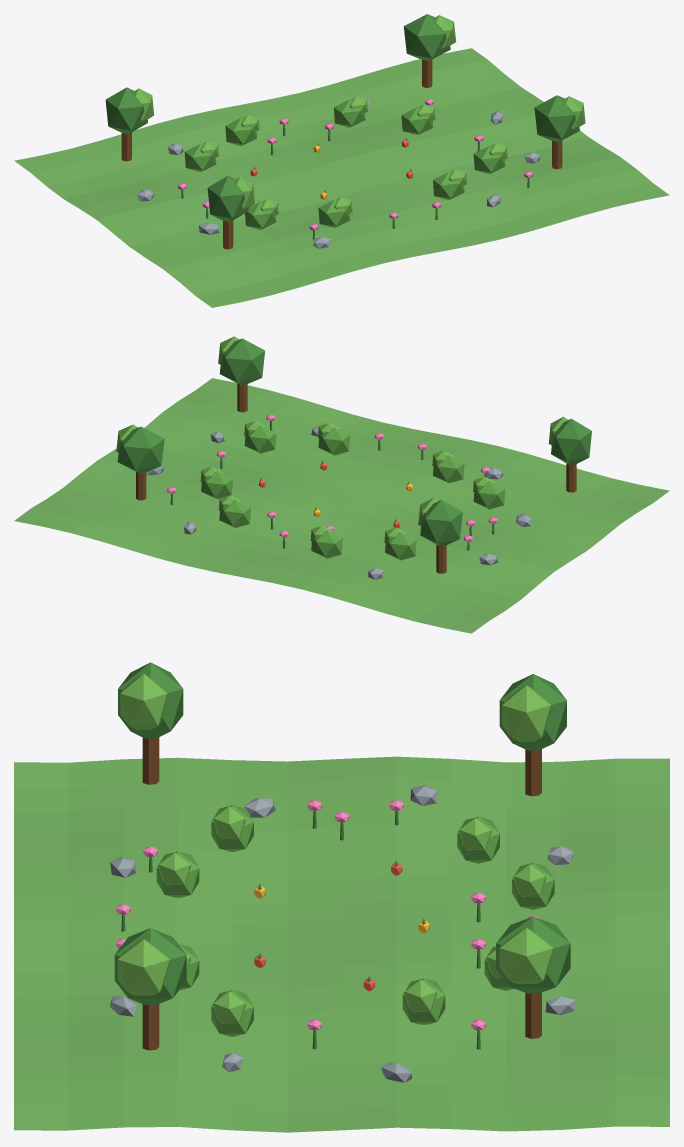
The model's file is BercarioEnvironment.fbx.
3 views of the same model, one above another, from view 1: azimuth 30°, elevation 25°; view 2: azimuth 150°, elevation 25°; view 3: azimuth 270°, elevation 25° (orthographic). The views are drawn at different scales.
Parts seen in each view (by area): view 1: GEO-ENV-Terrain, GEO-Tree_02_CanopyA, GEO-Tree_04_CanopyA, GEO-Tree_01_CanopyA, GEO-Tree_03_CanopyA, GEO-FruitBush_01_Base, GEO-FruitBush_08_Base, GEO-FruitBush_06_Base, GEO-FruitBush_03_Base, GEO-FruitBush_07_Base, GEO-FruitBush_02_Base, GEO-FruitBush_04_Base (+1 smaller); view 2: GEO-ENV-Terrain, GEO-Tree_02_CanopyA, GEO-Tree_04_CanopyA, GEO-Tree_01_CanopyA, GEO-Tree_03_CanopyA, GEO-FruitBush_07_Base, GEO-FruitBush_08_Base, GEO-FruitBush_03_Base, GEO-FruitBush_05_Base, GEO-FruitBush_02_Base, GEO-FruitBush_01_Base, GEO-FruitBush_04_Base (+1 smaller); view 3: GEO-ENV-Terrain, GEO-Tree_02_CanopyA, GEO-Tree_02_CanopyB, GEO-Tree_04_CanopyA, GEO-Tree_04_CanopyB, GEO-Tree_01_CanopyB, GEO-Tree_01_CanopyA, GEO-Tree_03_CanopyB, GEO-Tree_03_CanopyA, GEO-FruitBush_06_Base, GEO-FruitBush_02_Base, GEO-FruitBush_04_Base (+13 smaller).
Boxes of the visible parts, x1,y1,x2,y2 form: GEO-ENV-Terrain: [14, 48, 669, 307]; GEO-Tree_02_CanopyA: [403, 14, 450, 60]; GEO-Tree_04_CanopyA: [534, 95, 579, 141]; GEO-Tree_01_CanopyA: [105, 87, 147, 133]; GEO-Tree_03_CanopyA: [207, 175, 248, 221]; GEO-FruitBush_01_Base: [184, 144, 216, 171]; GEO-FruitBush_08_Base: [473, 146, 505, 174]; GEO-FruitBush_06_Base: [318, 200, 349, 227]; GEO-FruitBush_03_Base: [333, 99, 365, 127]; GEO-FruitBush_07_Base: [433, 172, 464, 200]; GEO-FruitBush_02_Base: [225, 118, 256, 145]; GEO-FruitBush_04_Base: [401, 107, 433, 134]; GEO-ENV-Terrain: [14, 378, 669, 633]; GEO-Tree_02_CanopyA: [117, 426, 164, 473]; GEO-Tree_04_CanopyA: [219, 338, 264, 385]; GEO-Tree_01_CanopyA: [420, 500, 462, 546]; GEO-Tree_03_CanopyA: [551, 418, 591, 465]; GEO-FruitBush_07_Base: [318, 427, 350, 455]; GEO-FruitBush_08_Base: [244, 425, 276, 453]; GEO-FruitBush_03_Base: [219, 500, 250, 527]; GEO-FruitBush_05_Base: [473, 481, 505, 509]; GEO-FruitBush_02_Base: [311, 530, 342, 558]; GEO-FruitBush_01_Base: [385, 532, 416, 560]; GEO-FruitBush_04_Base: [201, 471, 232, 498]; GEO-ENV-Terrain: [14, 756, 669, 1132]; GEO-Tree_02_CanopyA: [496, 916, 570, 993]; GEO-Tree_02_CanopyB: [499, 928, 553, 983]; GEO-Tree_04_CanopyA: [114, 928, 186, 1005]; GEO-Tree_04_CanopyB: [118, 939, 169, 995]; GEO-Tree_01_CanopyB: [502, 685, 550, 741]; GEO-Tree_01_CanopyA: [499, 674, 566, 750]; GEO-Tree_03_CanopyB: [120, 674, 167, 730]; GEO-Tree_03_CanopyA: [118, 662, 183, 738]; GEO-FruitBush_06_Base: [156, 851, 199, 897]; GEO-FruitBush_02_Base: [512, 863, 554, 909]; GEO-FruitBush_04_Base: [402, 978, 445, 1024].
Size of the model in its own units: 32 by 6.06 by 24.
